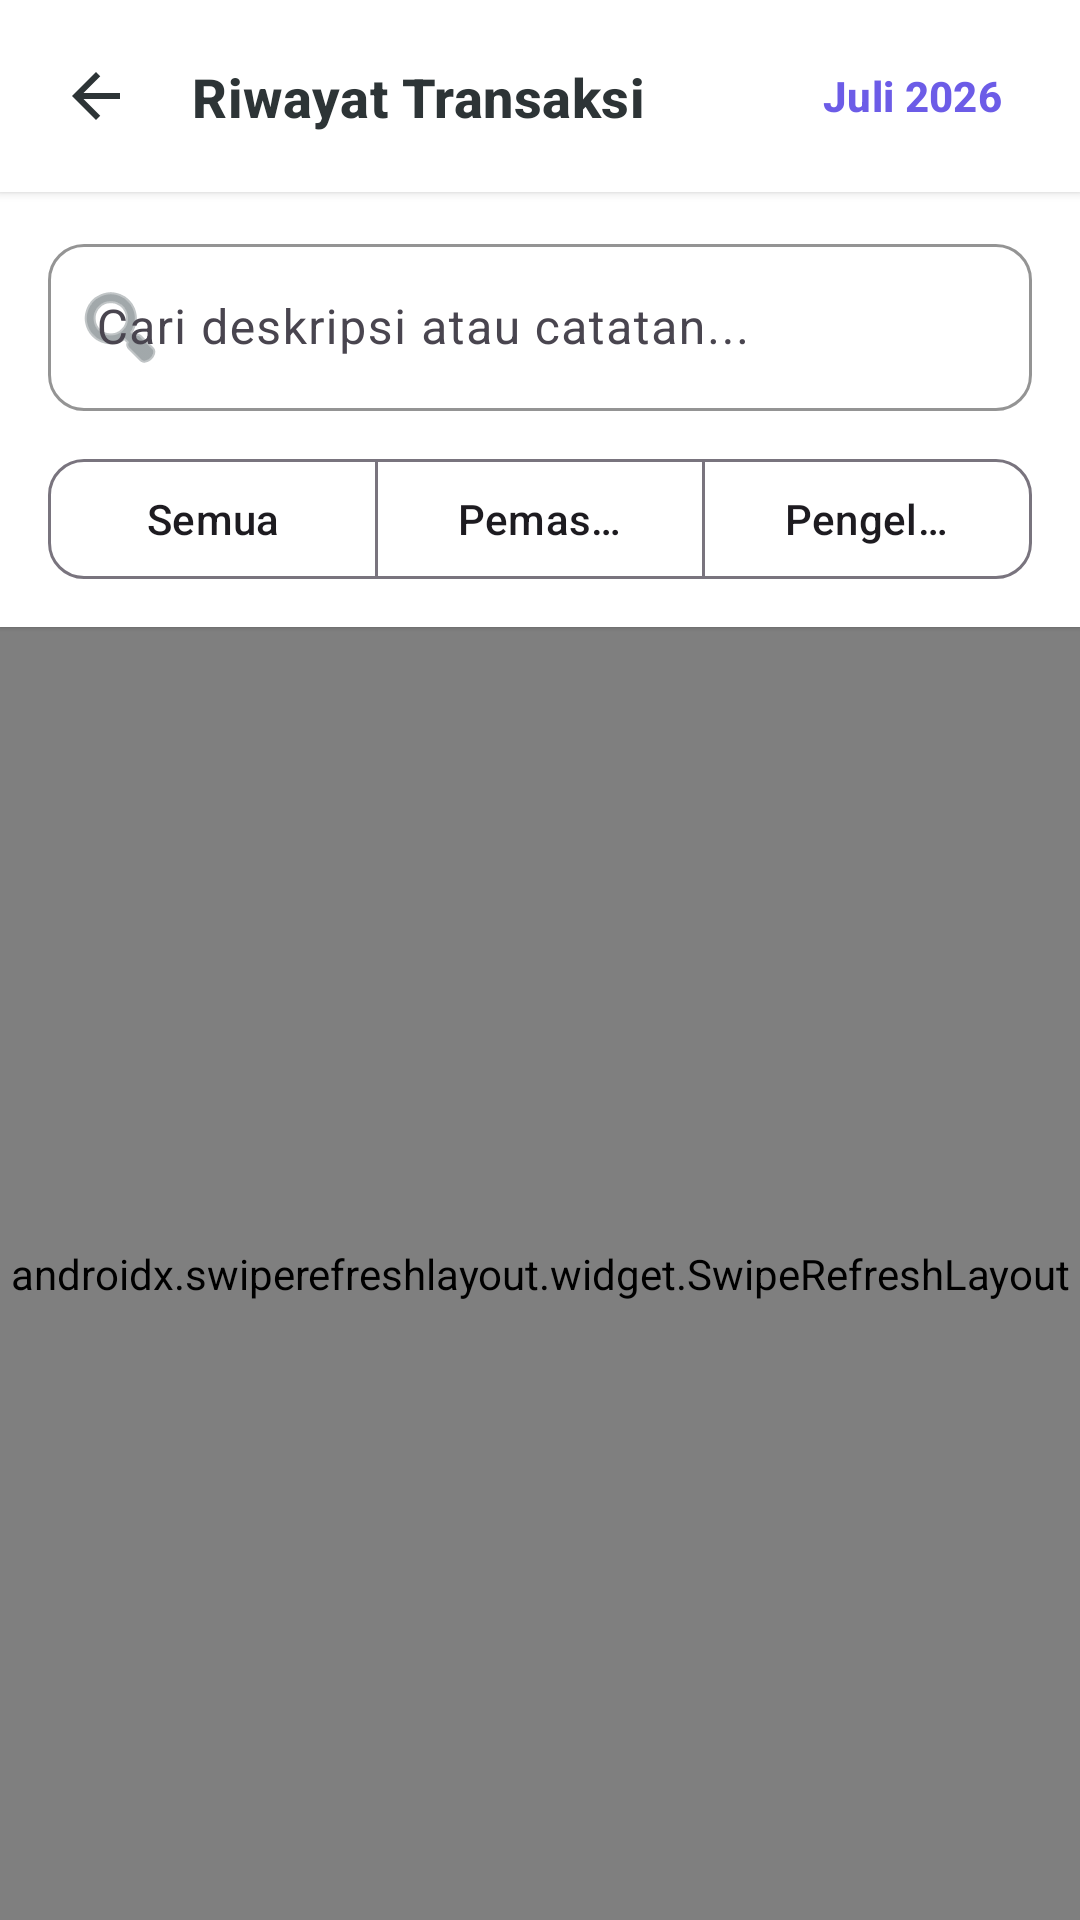

Icons on this 1080x1920 Android screen, each with the point to tap as point (x, y):
Go Back: point (96, 96)
